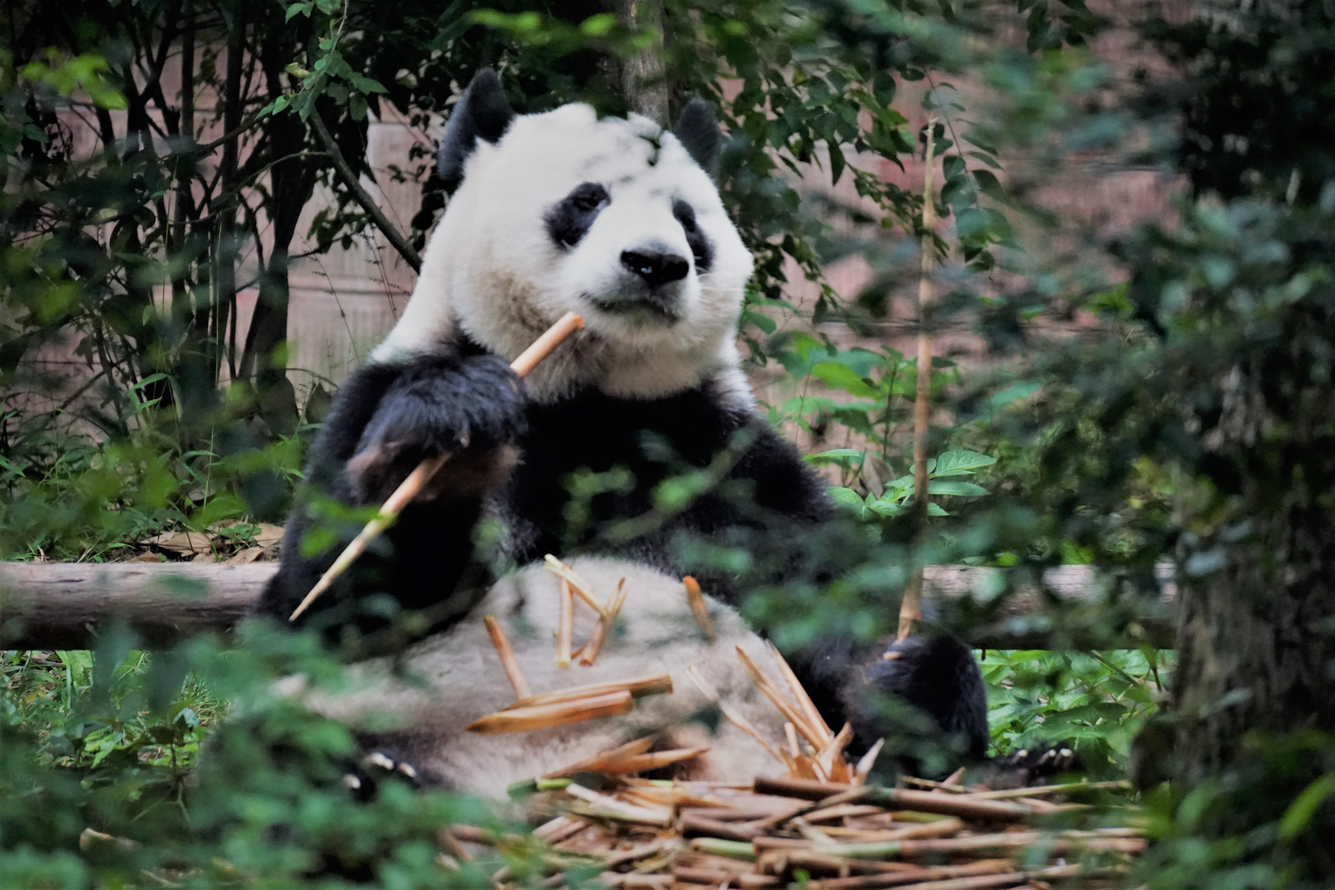panda: (310, 92, 936, 705)
